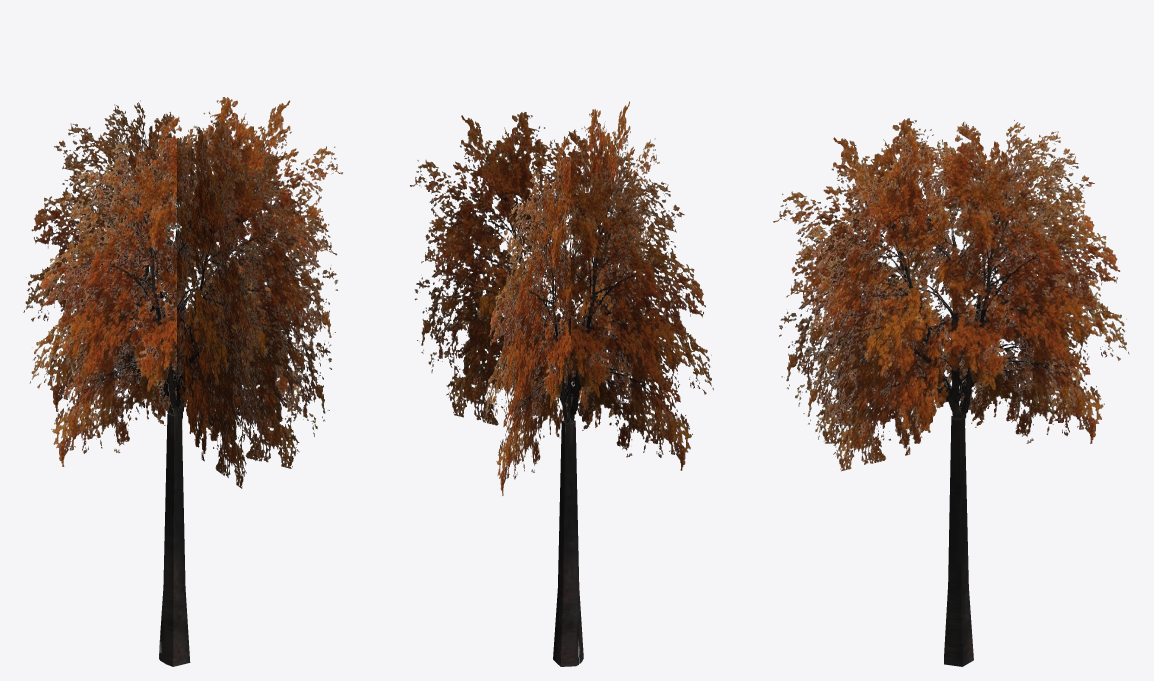
Rendered from Tree1.fbx.
3 renders of one model, left to right at view 1: azimuth 30°, elevation 25°; view 2: azimuth 150°, elevation 25°; view 3: azimuth 270°, elevation 25°, orthographic. The views are drawn at different scales.
Visible parts, largest first — view 1: Plane.002, Plane.007, Plane.006, Cylinder.003; view 2: Plane.002, Plane.006, Cylinder.003; view 3: Plane.006, Plane.007, Cylinder.003.
Part boxes in pixels (box(x1,y1,x2,y2)): Plane.002: box(29, 97, 343, 466); Plane.007: box(23, 112, 337, 468); Plane.006: box(93, 100, 268, 488); Cylinder.003: box(159, 412, 190, 666); Plane.002: box(410, 112, 713, 470); Plane.006: box(484, 101, 659, 495); Cylinder.003: box(553, 420, 583, 666); Plane.006: box(773, 118, 1129, 443); Plane.007: box(796, 120, 1102, 471); Cylinder.003: box(944, 415, 973, 666).
Bounding box in the file's own units: 6132 × 9946 × 6132.
